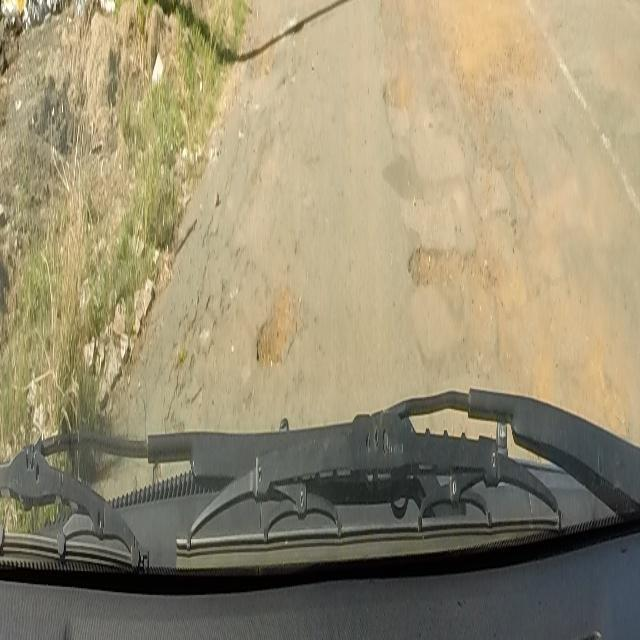pothole: (408, 239, 493, 303), (256, 287, 296, 372), (382, 69, 412, 114)
